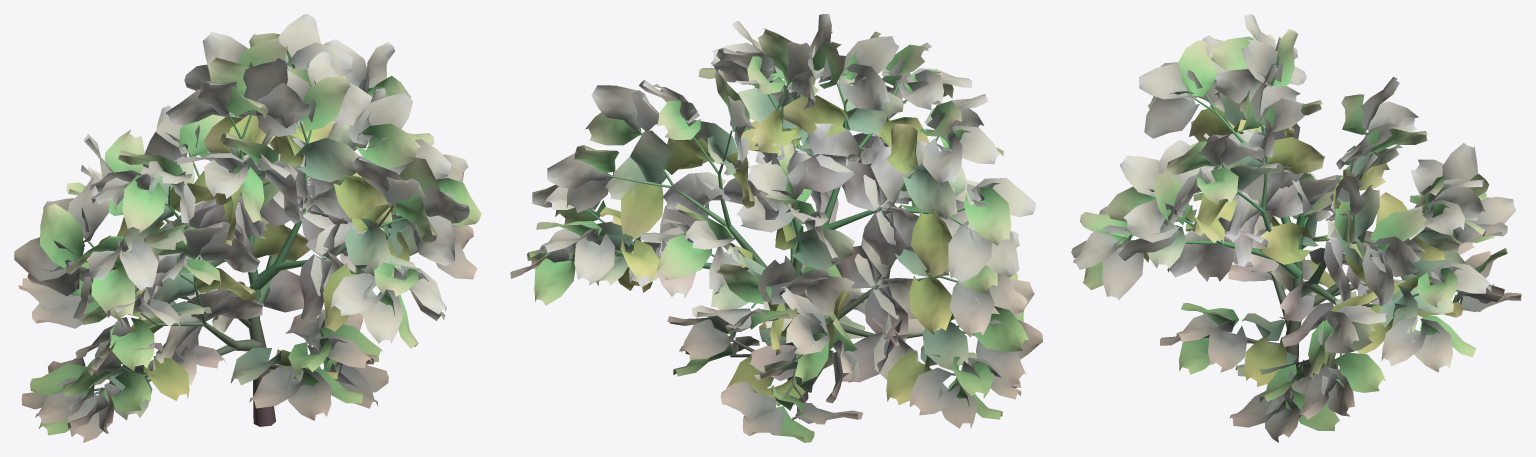
Rendered from Bushes_2.fbx.
3 views of the same model, side by side, from view 1: azimuth 30°, elevation 25°; view 2: azimuth 150°, elevation 25°; view 3: azimuth 270°, elevation 25° (orthographic). The views are drawn at different scales.
Visible parts, largest first — view 1: Bush2_Leaf, Bush2_Main; view 2: Bush2_Leaf, Bush2_Main; view 3: Bush2_Leaf, Bush2_Main.
Boxes of the visible parts, x1=… form: Bush2_Leaf: x1=14, y1=14, x2=481, y2=442; Bush2_Main: x1=75, y1=109, x2=405, y2=426; Bush2_Leaf: x1=510, y1=14, x2=1042, y2=442; Bush2_Main: x1=587, y1=81, x2=974, y2=406; Bush2_Leaf: x1=1071, y1=14, x2=1521, y2=442; Bush2_Main: x1=1130, y1=94, x2=1461, y2=399.
Size of the model in its own units: 3.93 by 3.06 by 3.49.
